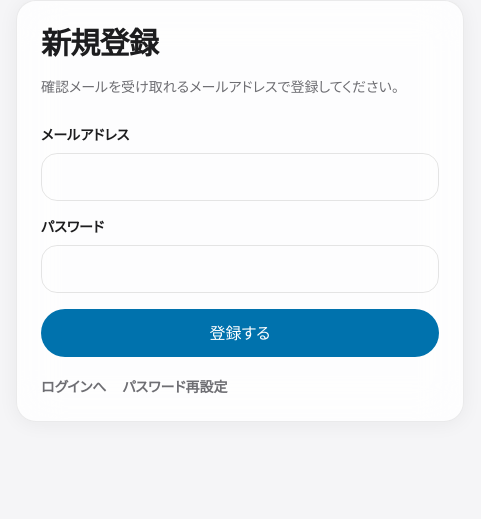
Test case: AuthForm › uses the configured public site URL for signup confirmation emails
Type "new@example.com" into the field labelled "メールアドレス" at (240, 177), box [41, 153, 439, 201]
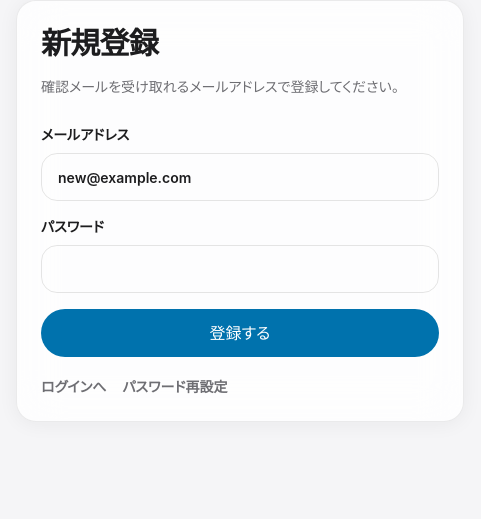
Type "password123" into the password field labelled "パスワード" at (240, 269), box [41, 245, 439, 293]
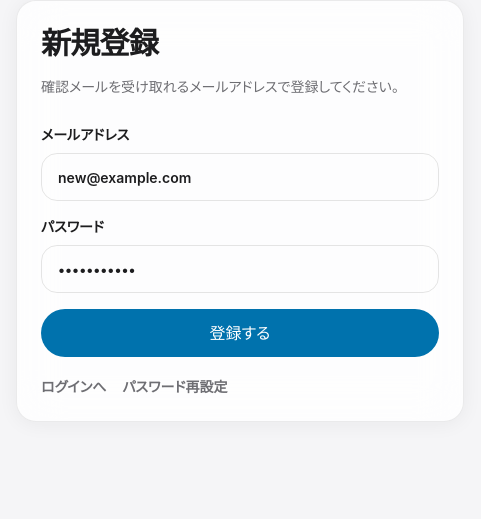
Submit the form "登録する", box [41, 125, 439, 357]
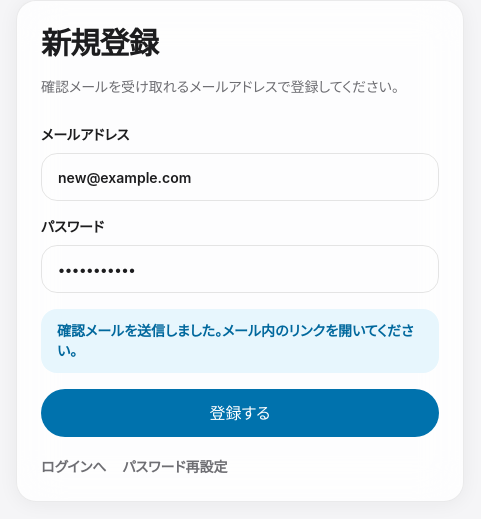
Expected: the text "確認メールを送信しました。メール内のリンクを開いてください。" is shown, [41, 309, 439, 373]
